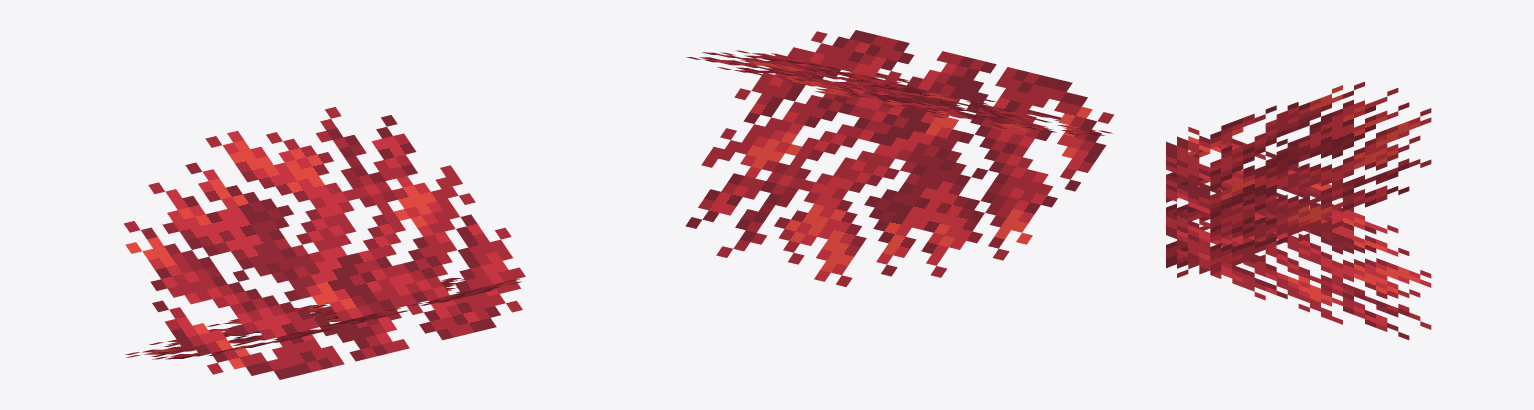
Rendered from block_fire_coral_wall_fan.gltf.
3 renders of one model, left to right at view 1: azimuth 30°, elevation 25°; view 2: azimuth 150°, elevation 25°; view 3: azimuth 270°, elevation 25°, orthographic. The views are drawn at different scales.
Parts seen in each view (by area): view 1: cube (×2); view 2: cube (×2); view 3: cube (×2).
Boxes of the visible parts, x1,y1,x2,y2 form: cube (×2): (123,107,525,379); cube (×2): (685,30,1113,286); cube (×2): (1166,81,1431,339).
Size of the model in its own units: 1 by 0.7249 by 1.
1 material, 1 textured.
